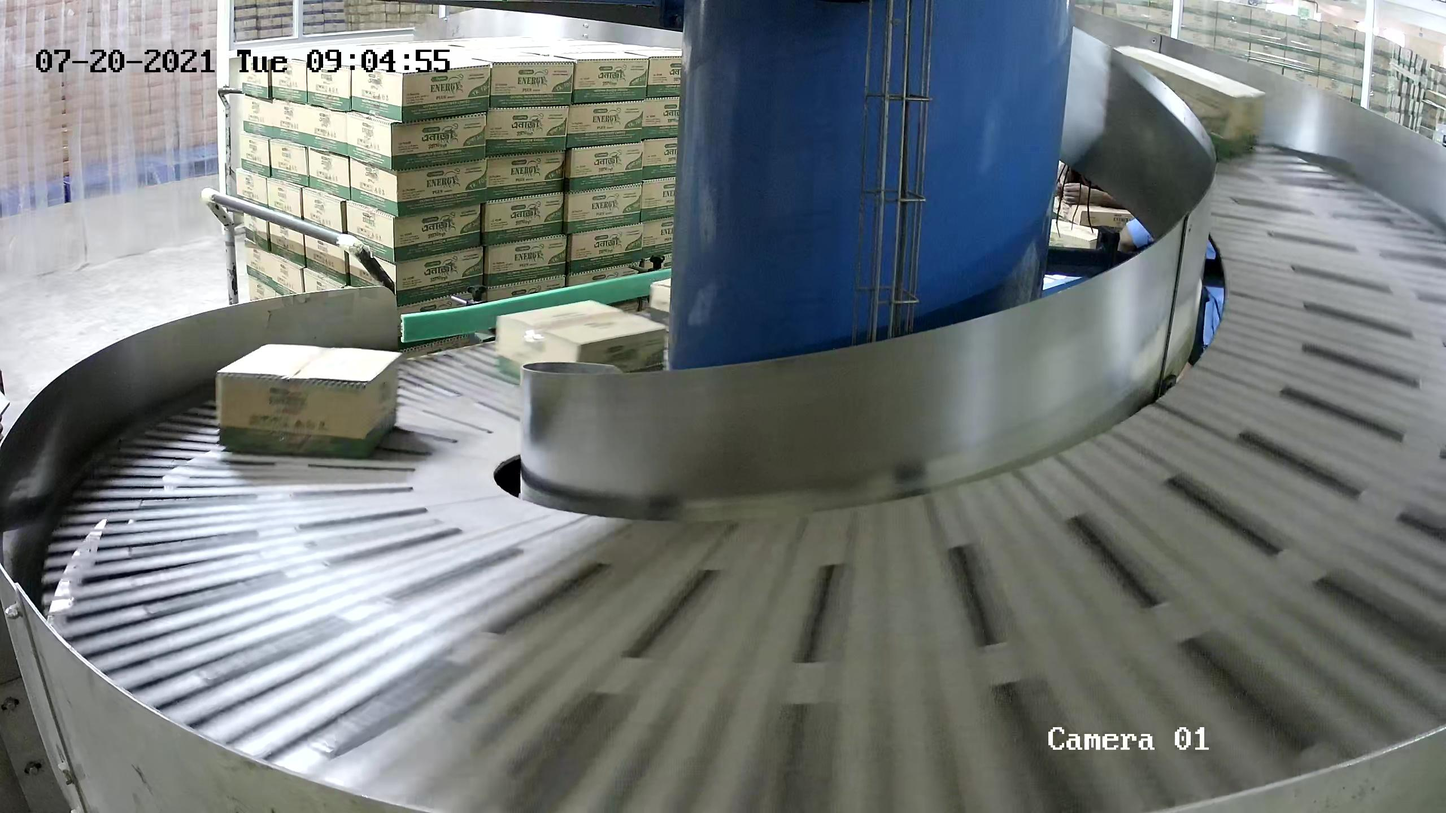Box: (215, 343, 403, 459), (1112, 46, 1265, 159), (496, 299, 667, 397)
